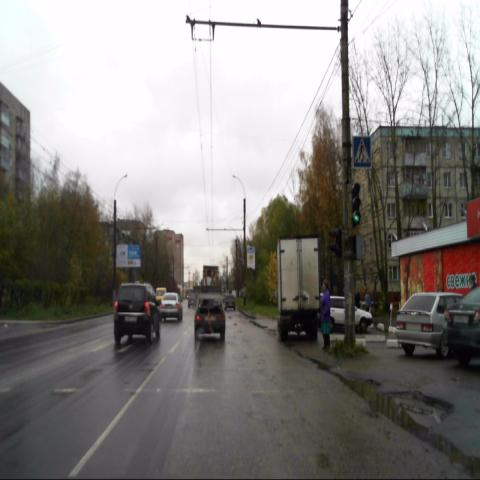5_19_1: (351, 134, 372, 169)
